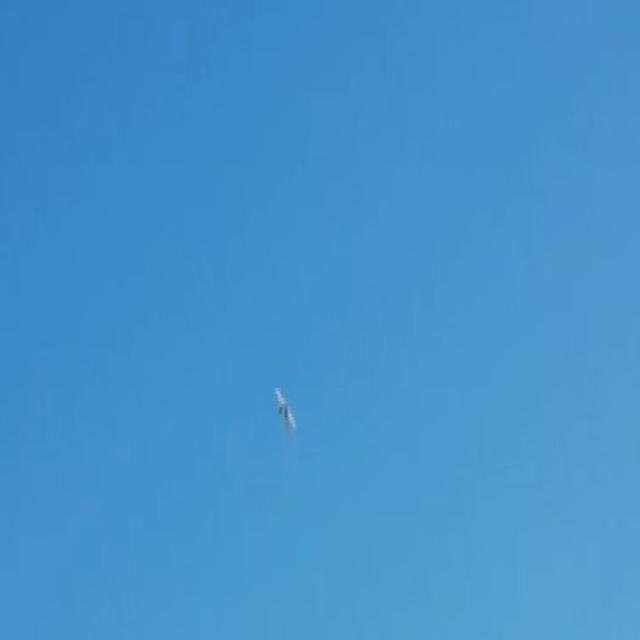iha: (273, 386, 297, 432)
